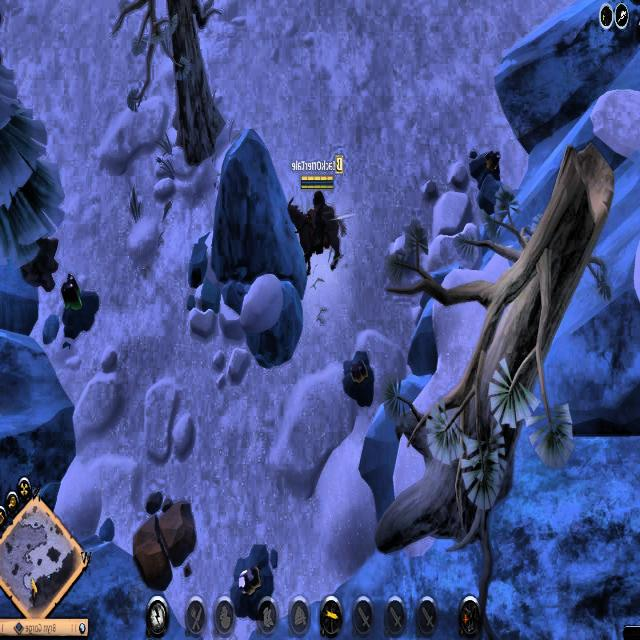copperore: (227, 539, 276, 622), (341, 348, 375, 408), (469, 145, 504, 193)
limestone: (128, 493, 200, 591)
tinore: (59, 266, 98, 338)
